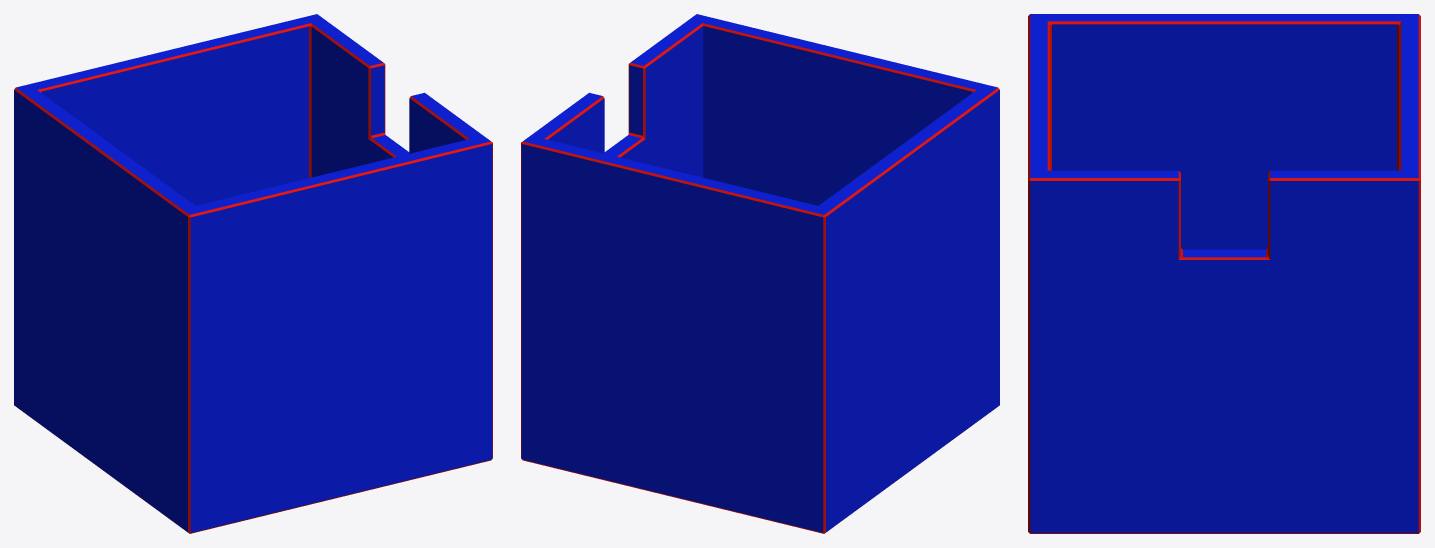
File: L9_MiddleInnerCube_Wall.fbx
3 renders of one model, left to right at view 1: azimuth 30°, elevation 25°; view 2: azimuth 150°, elevation 25°; view 3: azimuth 270°, elevation 25°, orthographic. The views are drawn at different scales.
Visible parts, largest first — view 1: L9_MiddleInnerCube_Wall; view 2: L9_MiddleInnerCube_Wall; view 3: L9_MiddleInnerCube_Wall.
Boxes of the visible parts, bbox=[...] form: L9_MiddleInnerCube_Wall: bbox=[14, 14, 492, 533]; L9_MiddleInnerCube_Wall: bbox=[521, 14, 999, 533]; L9_MiddleInnerCube_Wall: bbox=[1028, 14, 1420, 533].
Bounding box in the file's own units: 900 × 900 × 900.
